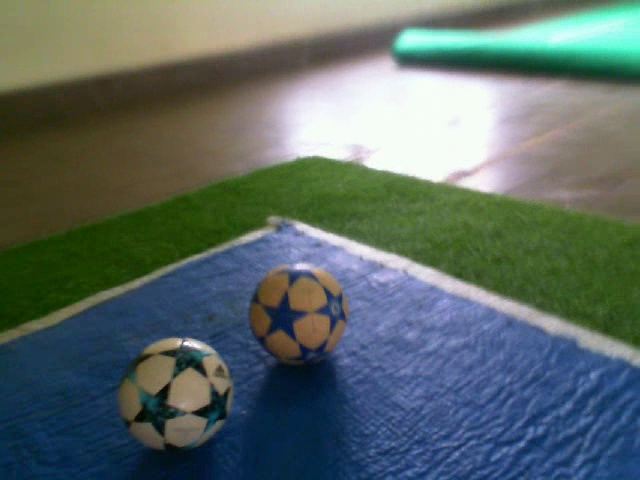ball: (113, 333, 237, 457), (246, 260, 351, 372)
